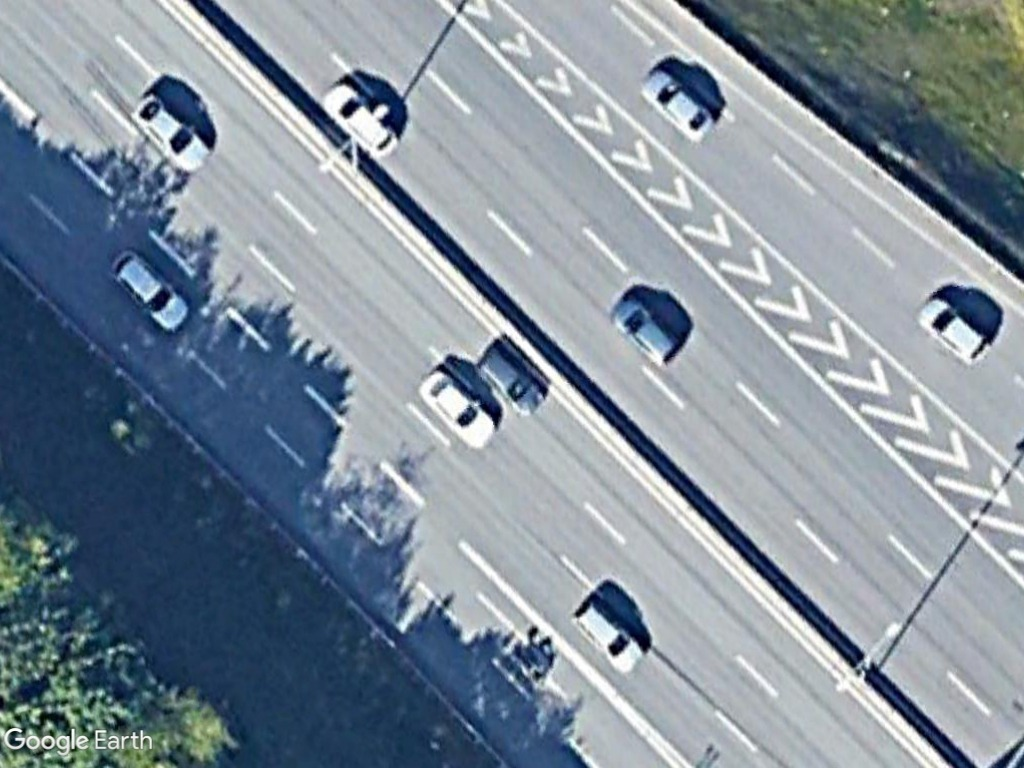car: (415, 367, 505, 455), (128, 87, 214, 174), (109, 247, 194, 334), (316, 80, 403, 161), (570, 595, 651, 678), (637, 68, 720, 147), (918, 291, 999, 369), (610, 290, 684, 373), (477, 343, 547, 414)
